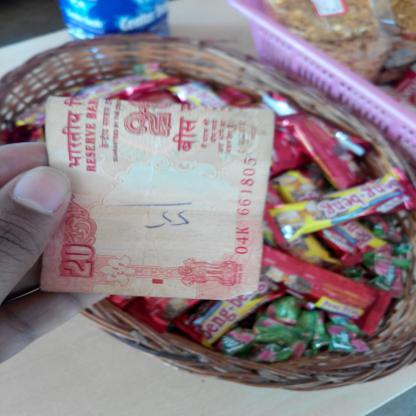New20Front: (48, 97, 262, 294)
